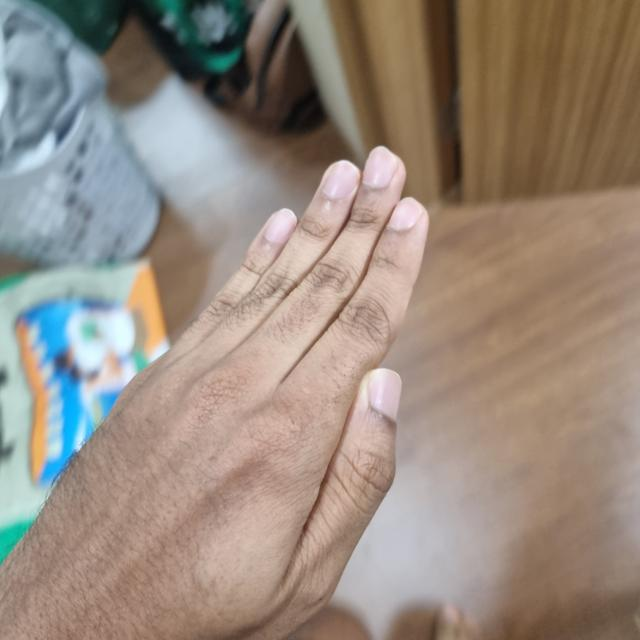Paper: (2, 147, 425, 638)
